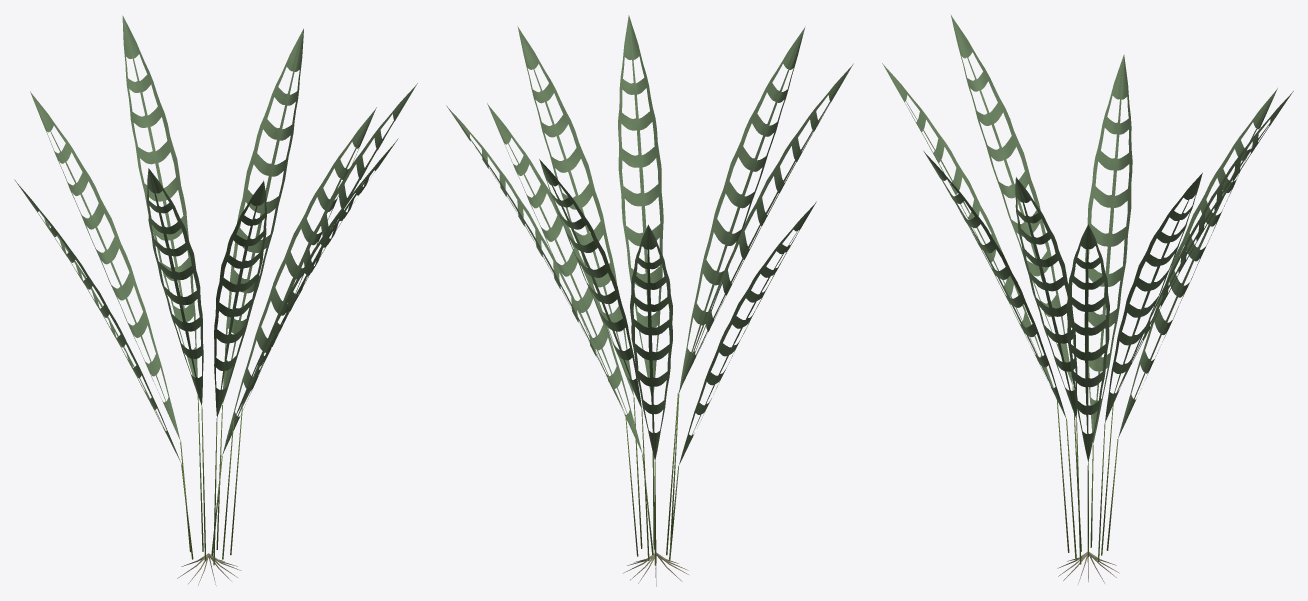
The model's file is aponogeton-desktop.glb.
3 renders of one model, left to right at view 1: azimuth 30°, elevation 25°; view 2: azimuth 150°, elevation 25°; view 3: azimuth 270°, elevation 25°, orthographic.
Visible parts, largest first — view 1: blade, petiole; view 2: blade, petiole; view 3: blade, petiole.
Part boxes in pixels (x1,y1,x2,y2): blade: (14,15,417,463); petiole: (180,395,242,565); blade: (446,15,853,465); petiole: (625,393,679,565); blade: (882,14,1293,461); petiole: (1057,386,1118,564).
Size of the model in its own units: 0.7528 by 1 by 0.7554.
